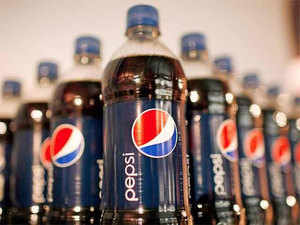pepsi: (131, 107, 177, 156), (50, 123, 84, 167), (215, 116, 237, 162), (243, 125, 264, 168), (270, 135, 290, 171)
